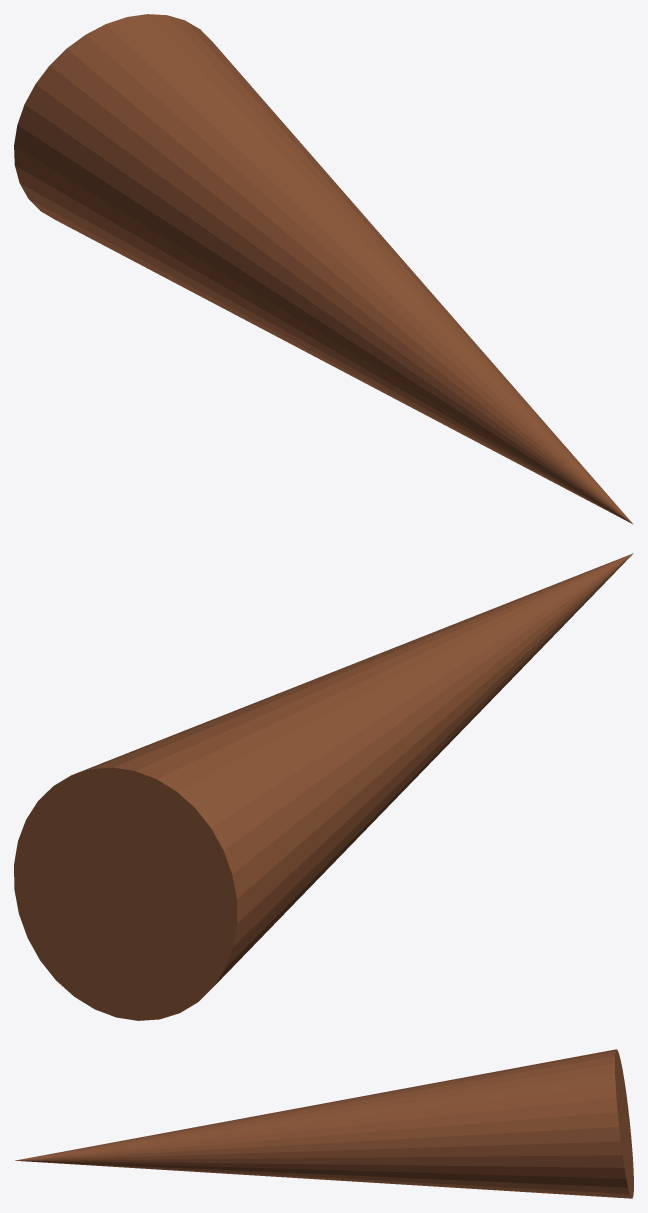
Rendered from Spike.fbx.
3 views of the same model, one above another, from view 1: azimuth 30°, elevation 25°; view 2: azimuth 150°, elevation 25°; view 3: azimuth 270°, elevation 25° (orthographic). The views are drawn at different scales.
Visible parts, largest first — view 1: Spike; view 2: Spike; view 3: Spike.
Part boxes in pixels (x1,y1,x2,y2): Spike: (14,14,633,524); Spike: (14,553,633,1020); Spike: (15,1049,633,1198).
Size of the model in its own units: 31.78 by 31.54 by 131.
